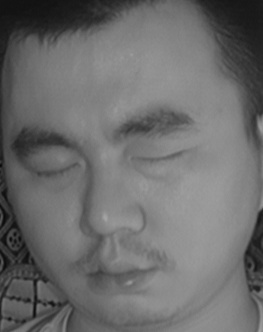blink: (130, 140, 185, 178), (31, 153, 82, 190)
mouth: (77, 243, 163, 300)
